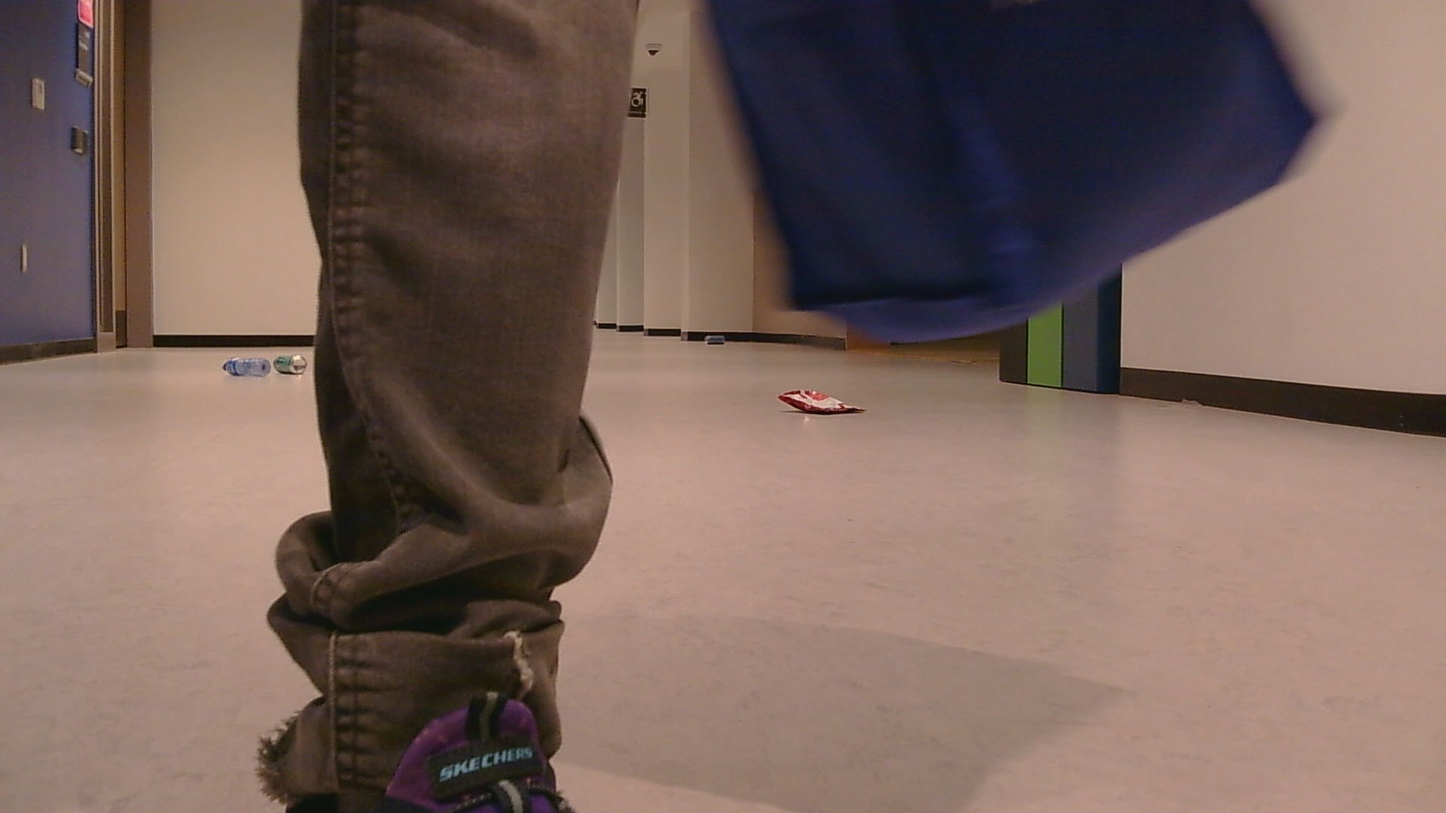carton: (782, 378, 863, 419), (212, 351, 273, 391), (268, 348, 307, 386), (696, 331, 729, 356)
